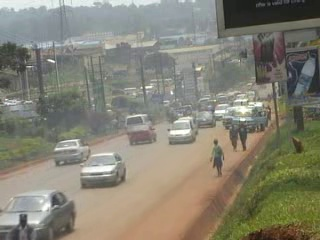Car: (0, 189, 79, 239), (80, 151, 127, 186), (51, 136, 92, 166), (166, 118, 196, 145), (125, 123, 157, 145), (176, 113, 200, 137), (193, 108, 217, 128), (212, 102, 230, 122), (175, 102, 195, 117)
